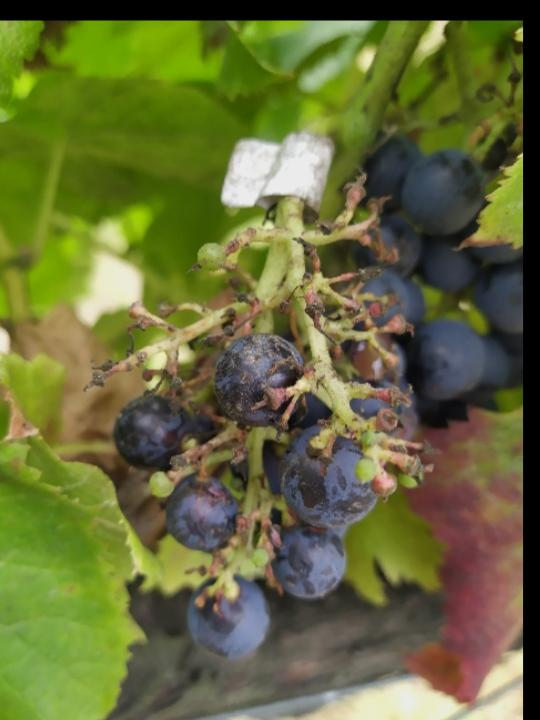grape: (79, 167, 445, 663)
